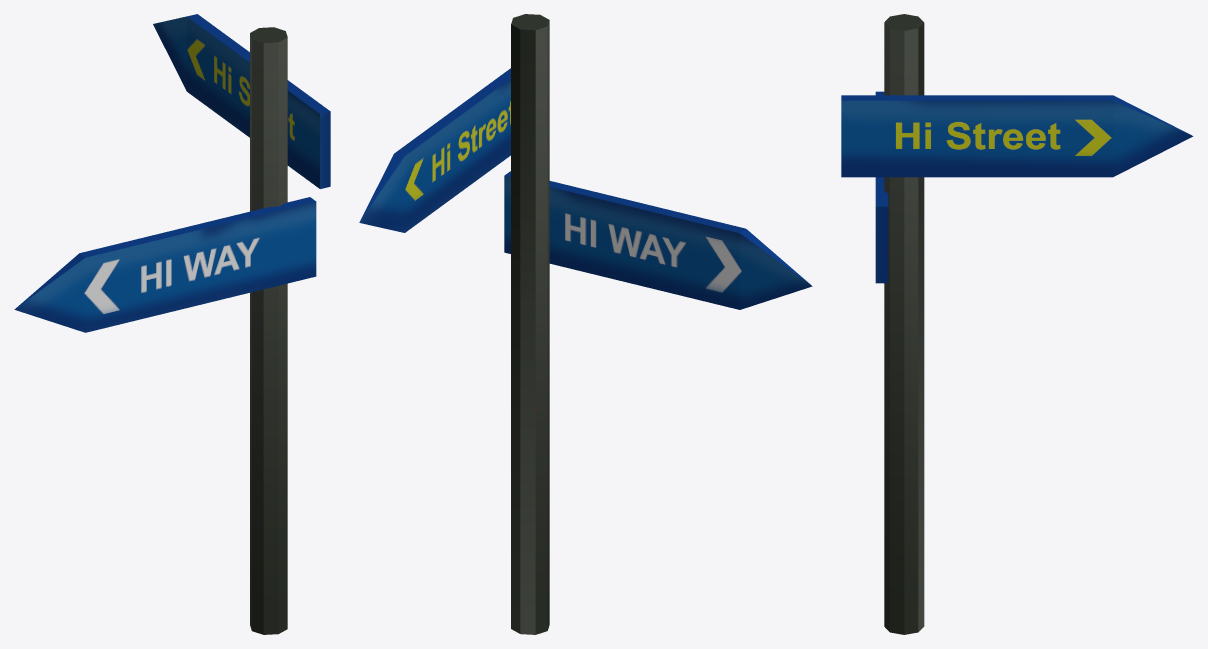
The model's file is signpost.fbx.
The picture shows the model from 3 angles, left to right: view 1: azimuth 30°, elevation 25°; view 2: azimuth 150°, elevation 25°; view 3: azimuth 270°, elevation 25°; orthographic projection. The views are drawn at different scales.
Parts seen in each view (by area): view 1: pCube3, pCylinder23, pCube2; view 2: pCylinder23, pCube3, pCube2; view 3: pCube2, pCylinder23, pCube3.
Boxes of the visible parts, x1,y1,x2,y2 form: pCube3: (14,197,316,332); pCylinder23: (250,27,287,634); pCube2: (153,14,330,188); pCylinder23: (511,14,549,634); pCube3: (504,171,812,309); pCube2: (359,68,510,232); pCube2: (841,95,1193,177); pCylinder23: (884,14,924,634); pCube3: (875,91,888,283).
Bounding box in the file's own units: 1.74 × 3.29 × 1.74.
2 materials, 2 textured.
